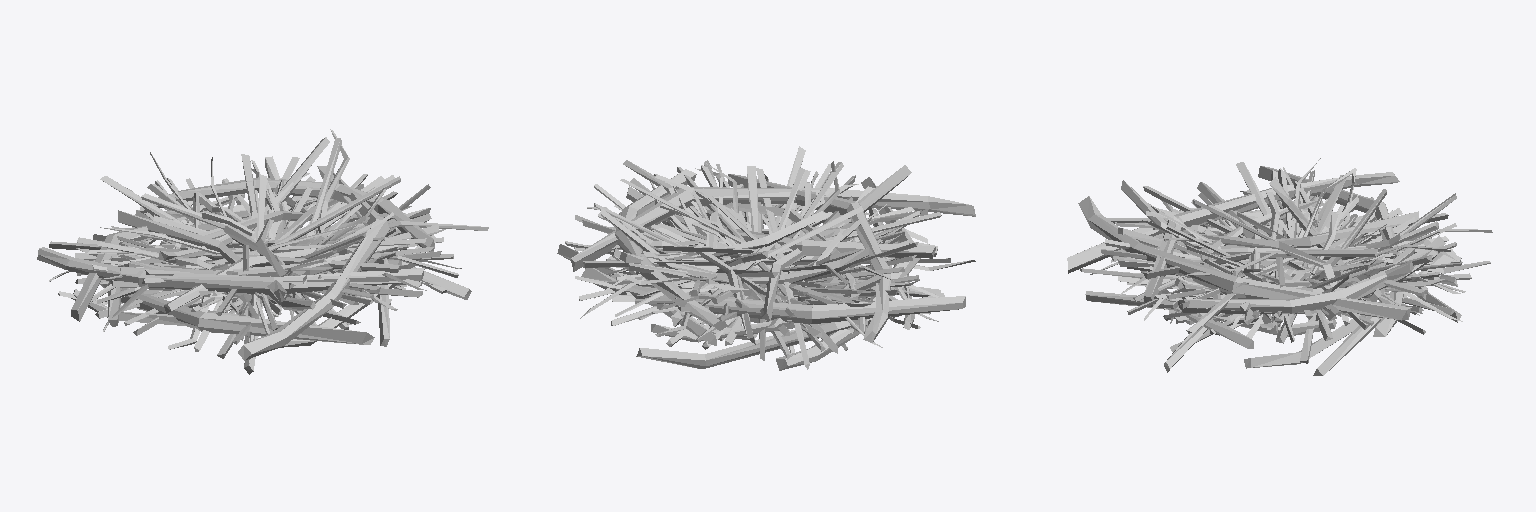
The model's file is nest_LOD2.obj.
3 views of the same model, side by side, from view 1: azimuth 30°, elevation 25°; view 2: azimuth 150°, elevation 25°; view 3: azimuth 270°, elevation 25° (orthographic).
Visible parts, largest first — view 1: barn.021_Cube.025; view 2: barn.021_Cube.025; view 3: barn.021_Cube.025.
Boxes of the visible parts, box(x1,y1,x2,y2) form: barn.021_Cube.025: box(37, 129, 488, 374); barn.021_Cube.025: box(557, 146, 975, 370); barn.021_Cube.025: box(1067, 158, 1492, 375).
Size of the model in its own units: 46.3 by 13.21 by 44.99.